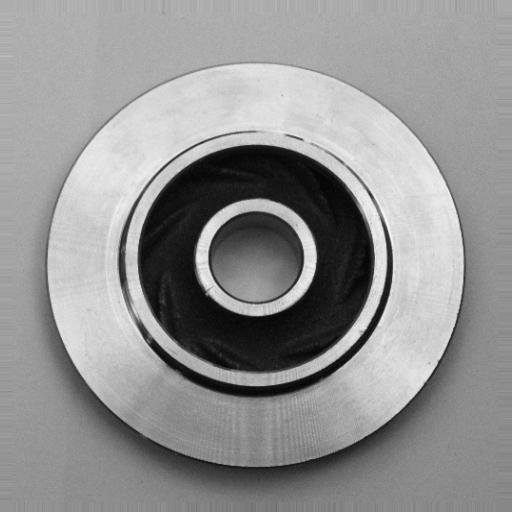scratch: (243, 115, 307, 149)
unpolished_casting: (44, 65, 465, 471)
